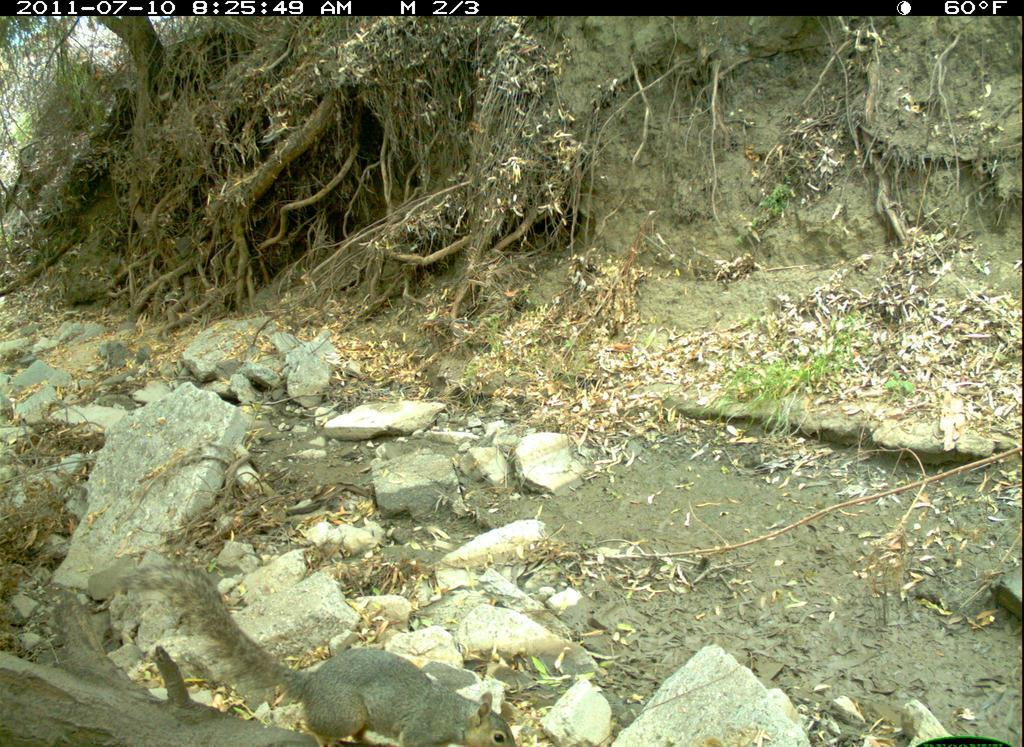squirrel: (120, 545, 533, 745)
